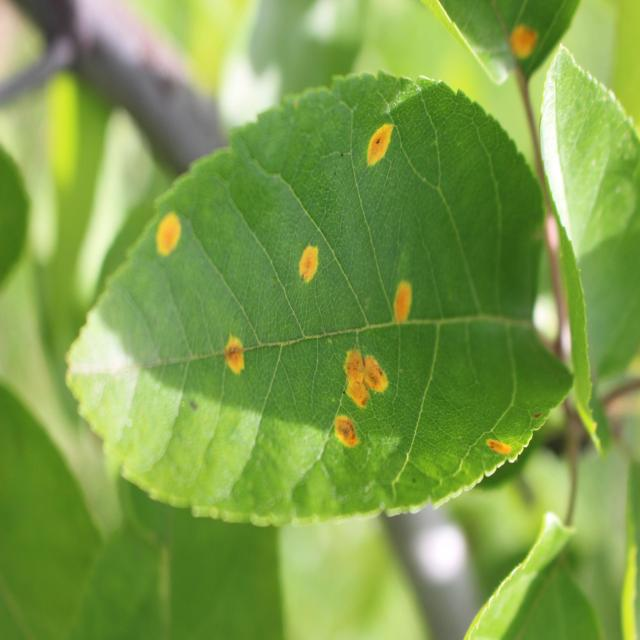Rust: (340, 338, 392, 415), (353, 108, 401, 169), (216, 320, 255, 388), (383, 268, 418, 336), (148, 209, 187, 265), (320, 407, 370, 449), (478, 422, 520, 472), (504, 12, 539, 71), (296, 230, 322, 294), (621, 7, 640, 10)
